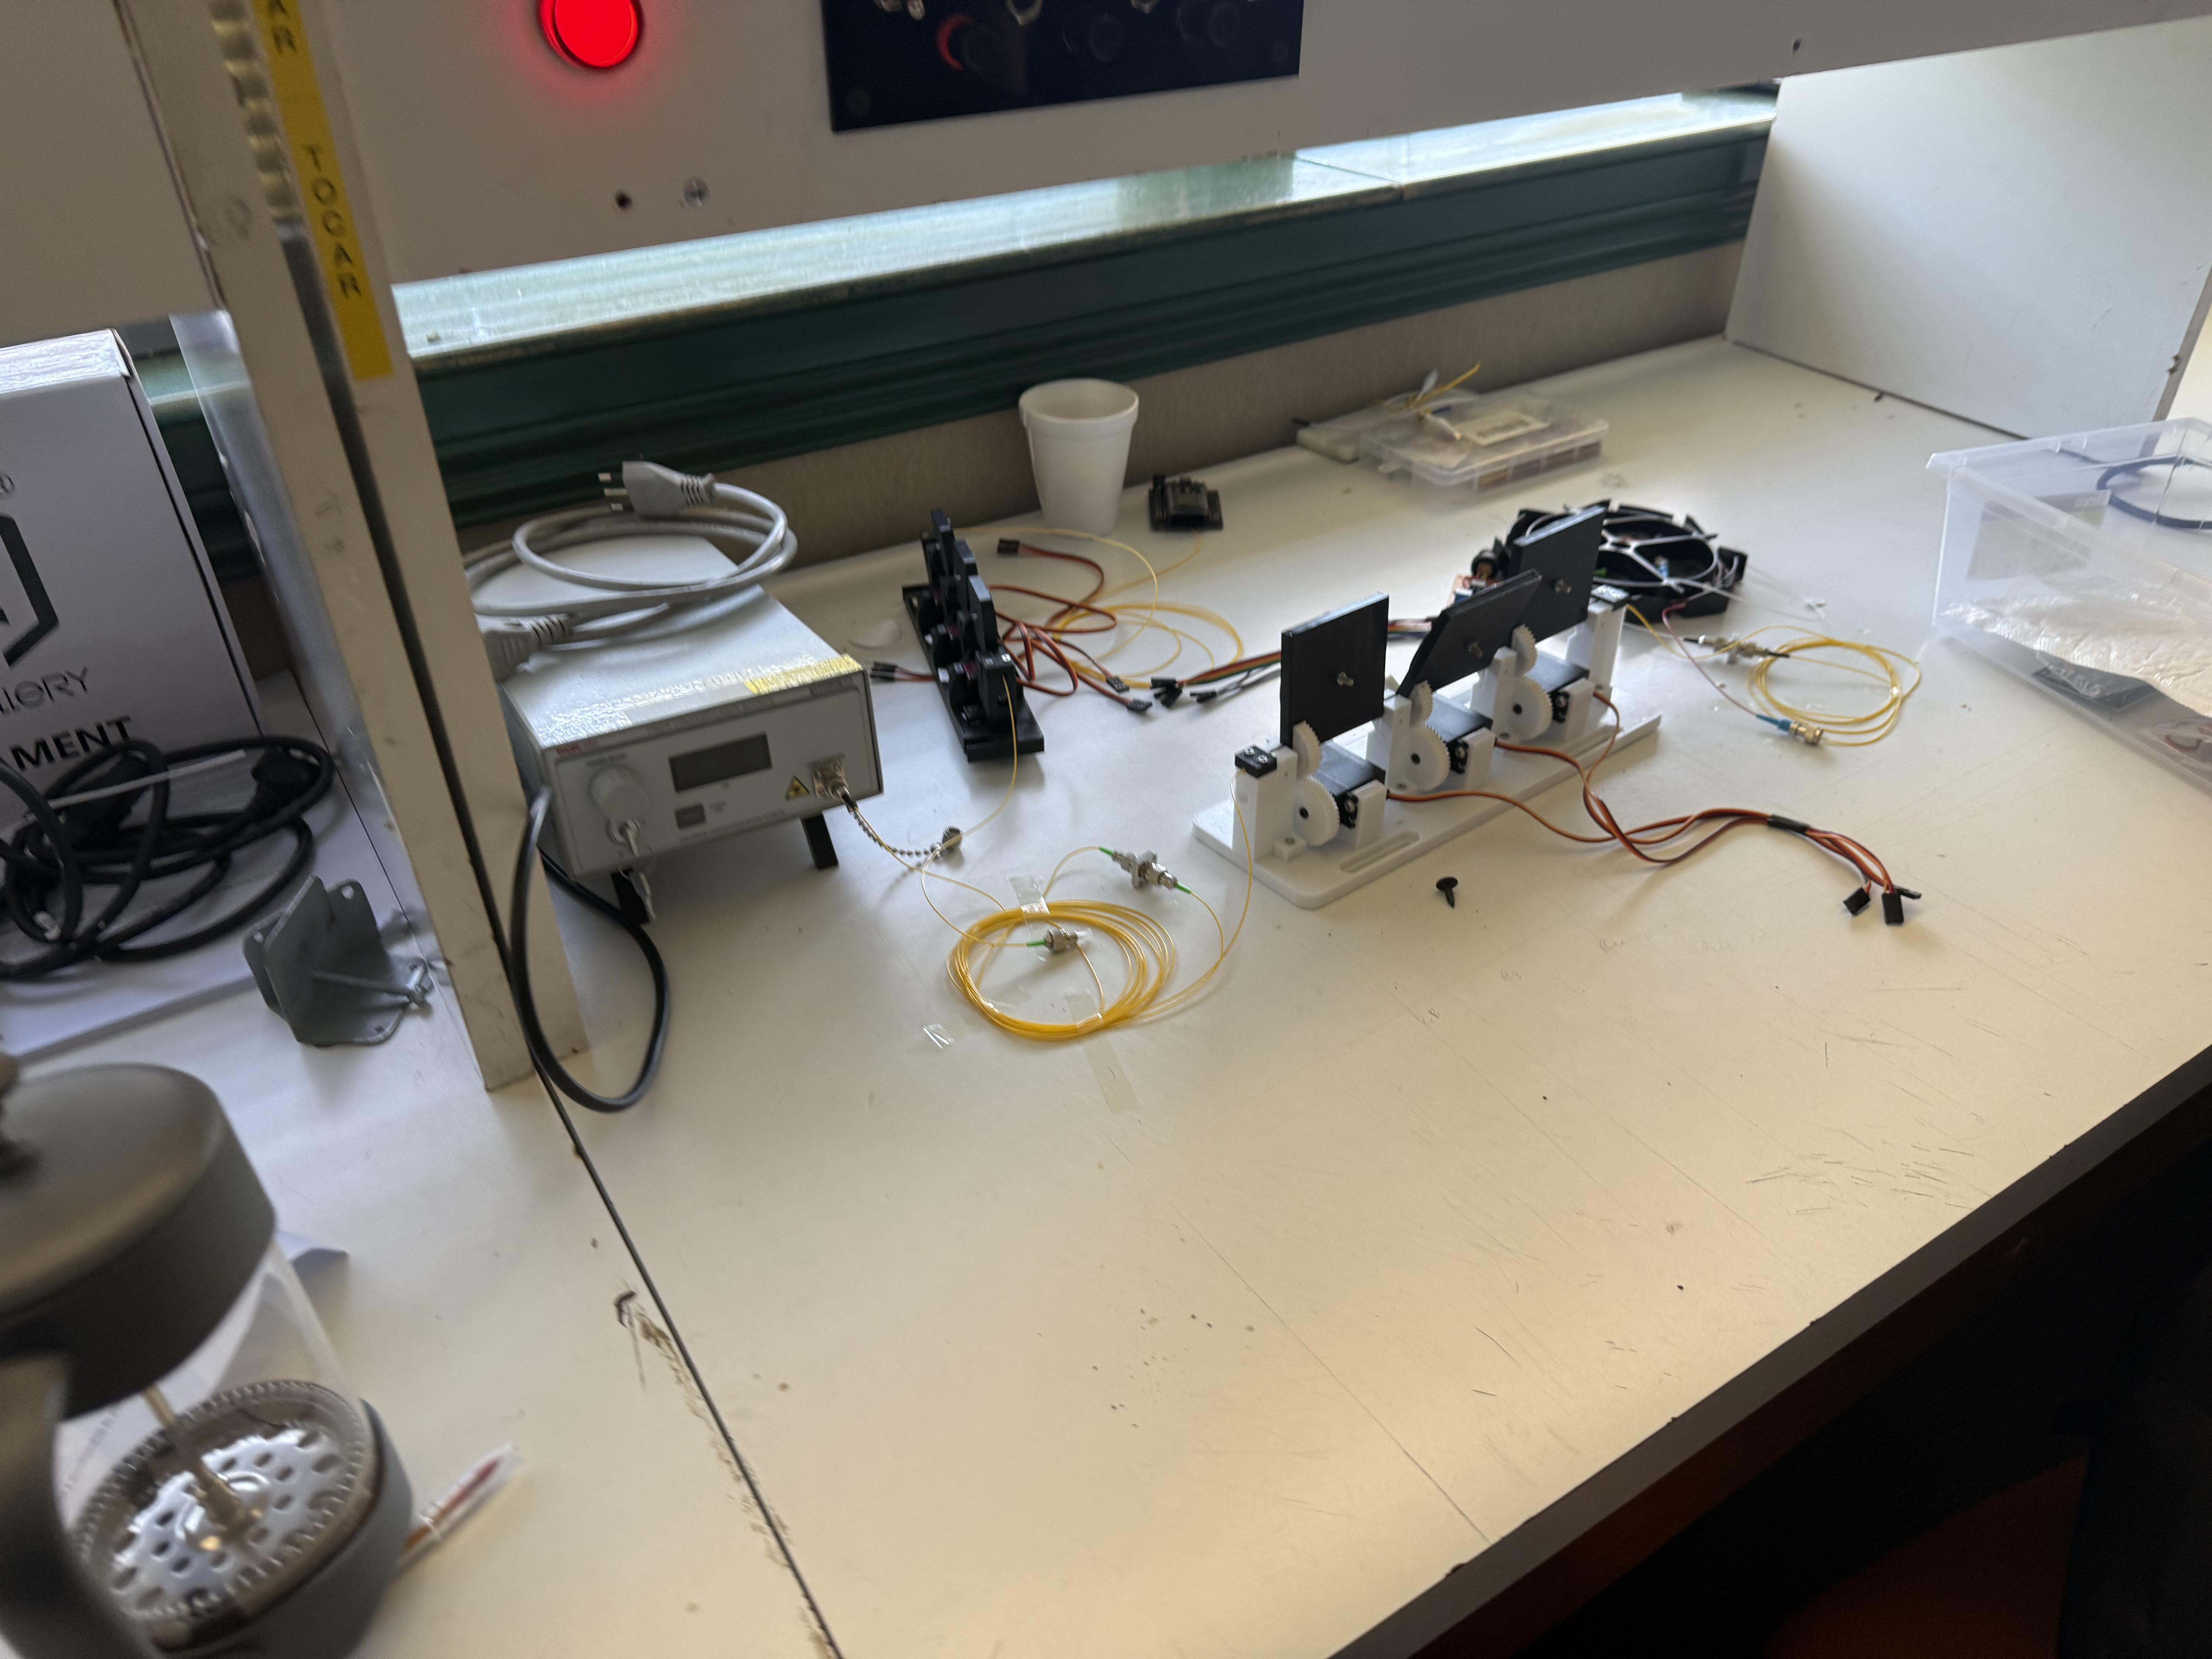fiber_cable: (942, 885, 1195, 1056)
paddle_polarization_controller: (1162, 486, 1709, 929), (883, 504, 1061, 784)
